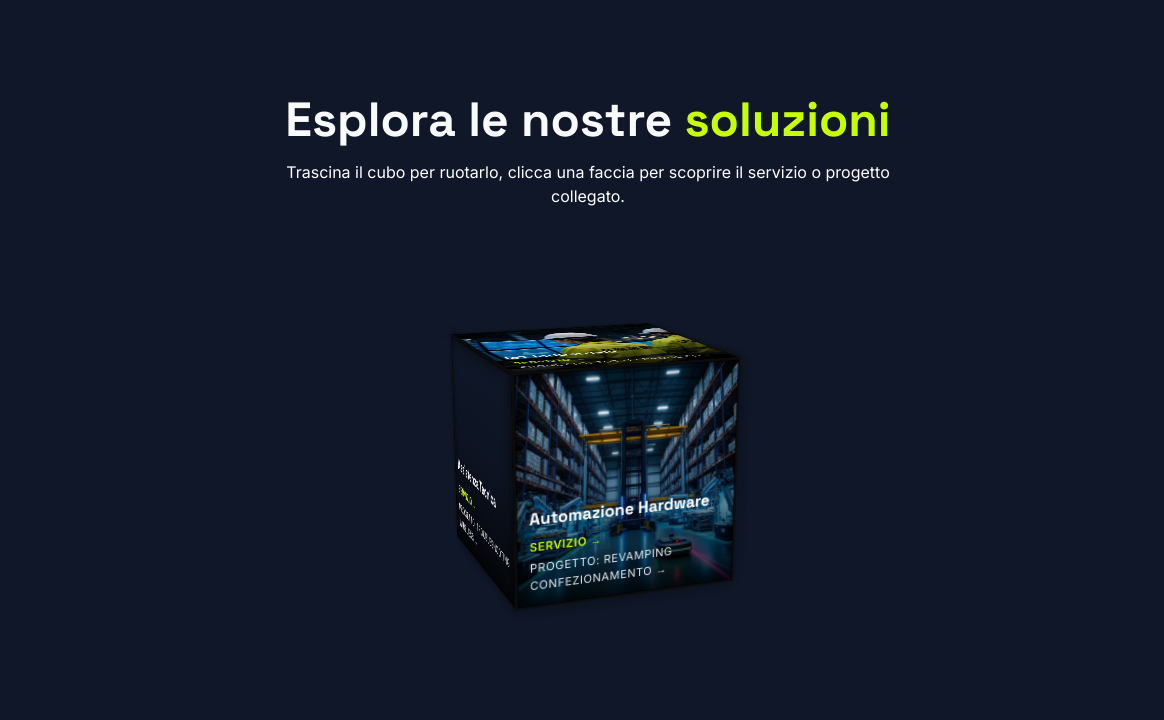
collegamenti del cubo dopo il trascinamento › la tastiera apre il servizio anche dopo aver ruotato il cubo
The image size is (1164, 720).
Press the mouse on the link "Servizio →" next to "Revamping Confezionamento": (566, 543) [530,531,602,555]
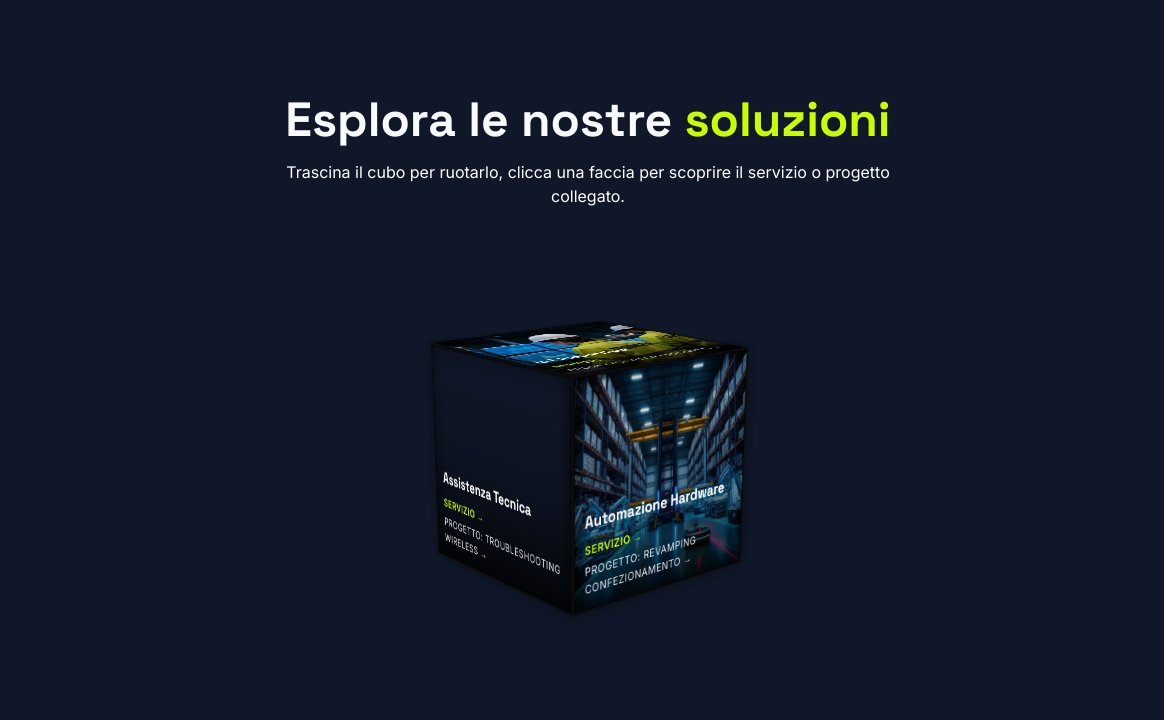
Click the link "Servizio →" next to "Revamping Confezionamento": (614, 543) [585,528,642,558]
(page scrolled)
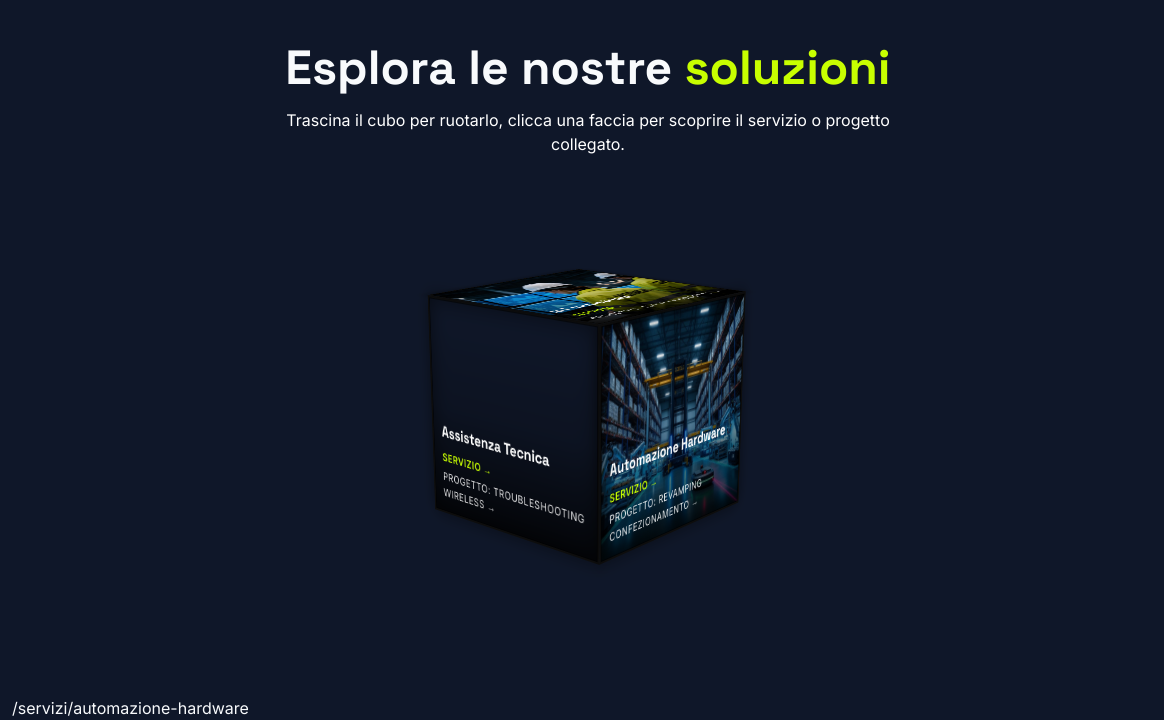
Now the text with test id "destination" reads "/servizi/automazione-hardware", box [12,698,249,718]
